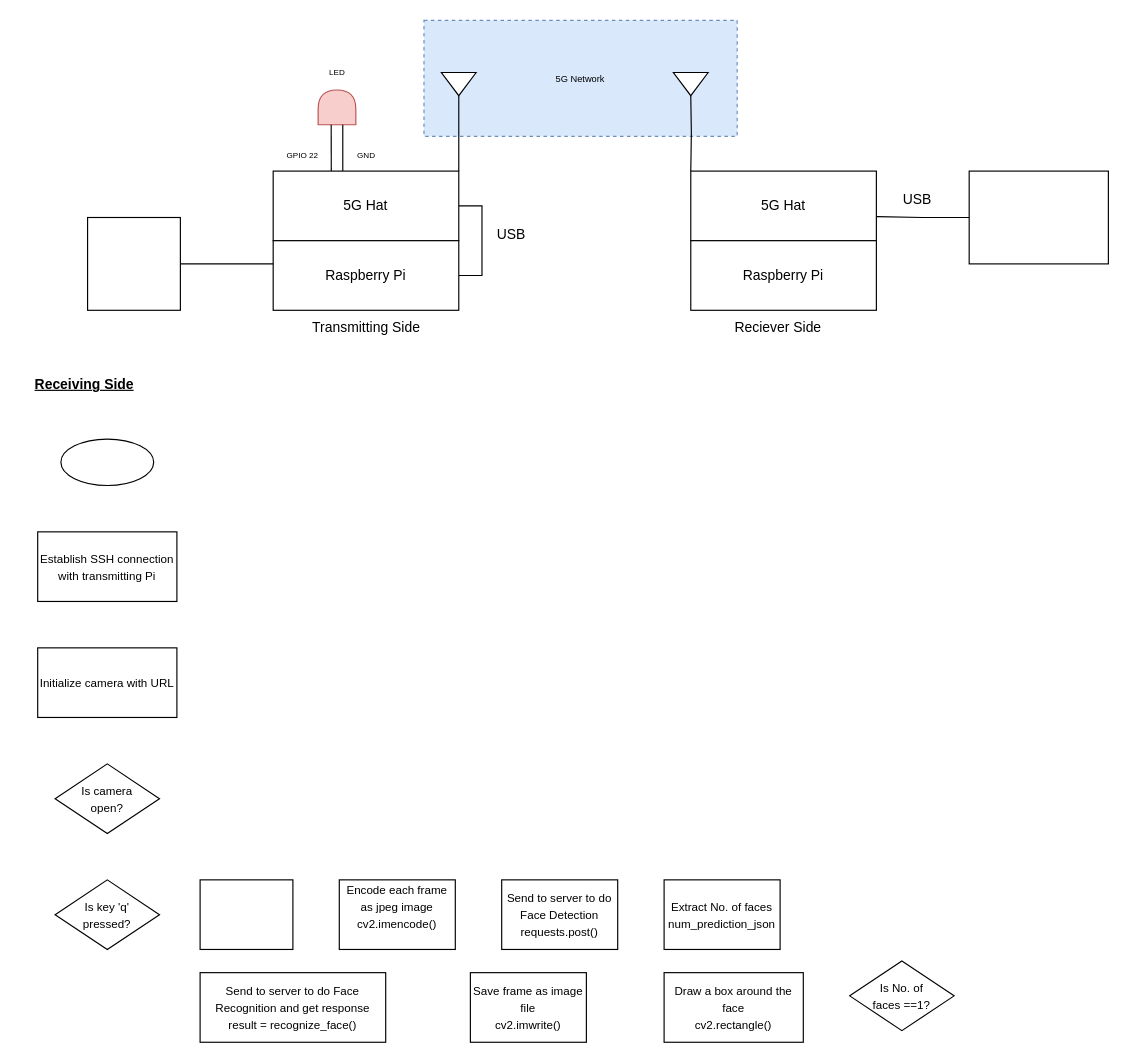
Some shapes in this 1129 by 1063 pixel diagram are drawn without their labels. The shapes that lost their labels are listed below. From the top down, each one's centre as x and y in pixels, then its label:
At [1038,217]: "MEC (Laptop)".
At [133,263]: "RPi Camera".
At [107,461]: "Start".
At [246,914]: "Capture frames cap.read()".
